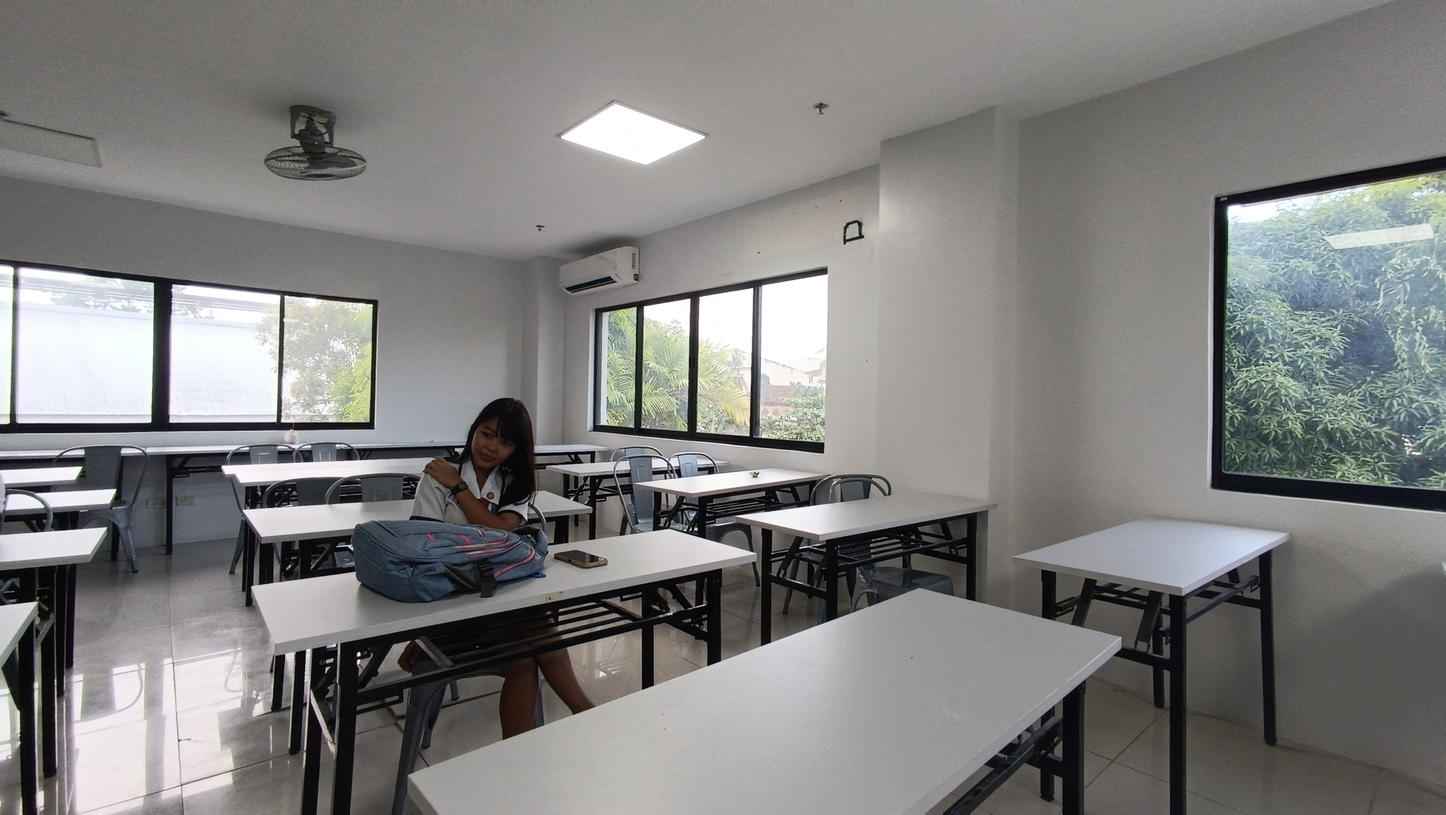with-student: (251, 386, 762, 673)
